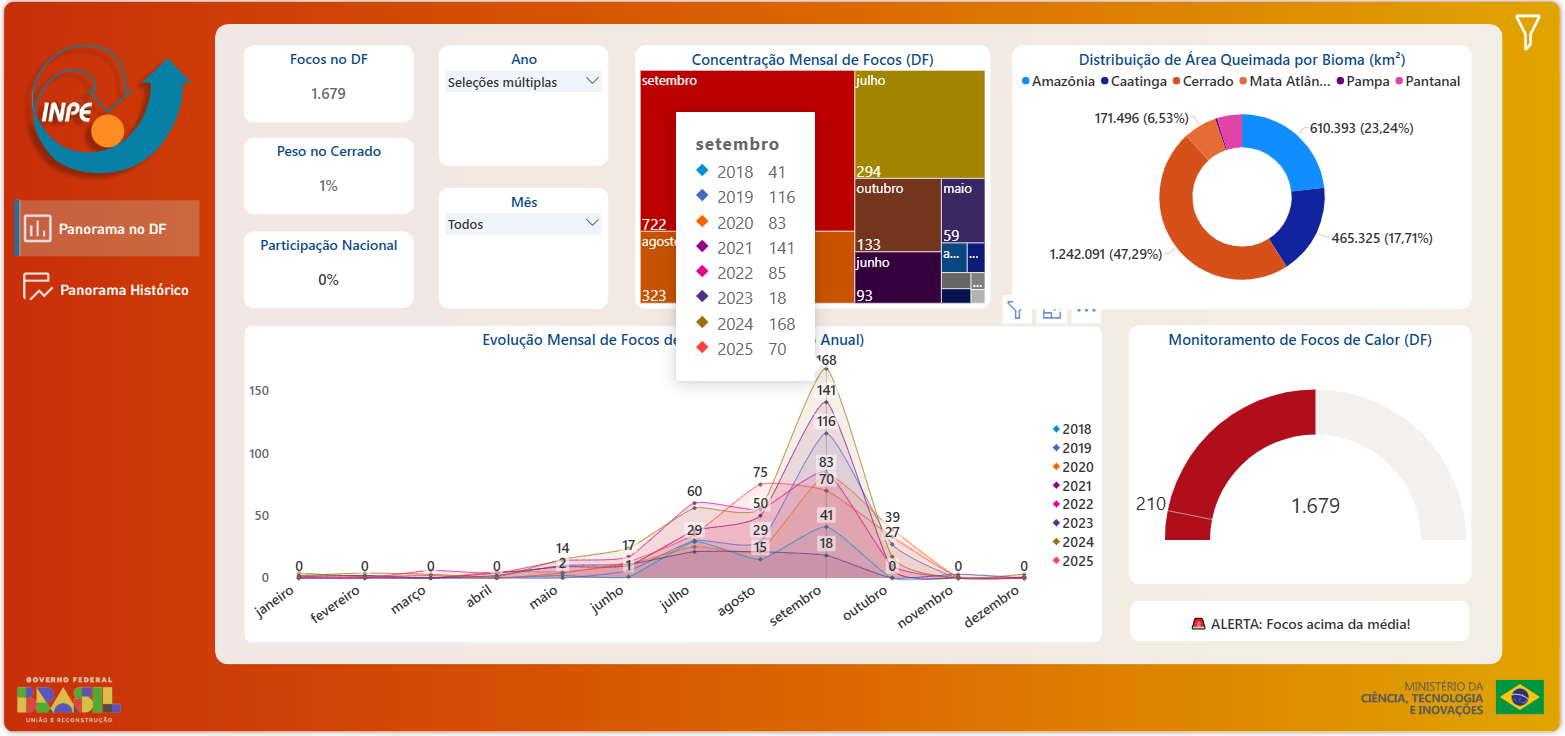

Layout of this report page (visuals, bound fields, positions):
{"tool":"powerbi","page":{"name":"Panorama no DF","canvas":[4500,2130],"ordinal":0},"visuals":[{"type":"image","title":"Orange Background","box":[24.4,20.3,4444.7,2086.1],"z":0},{"type":"image","title":"Ícone Histórico","box":[67.3,776.4,108.8,120.1],"z":0,"group":"g1"},{"type":"shape","title":"Fundo Branco","box":[629,84.3,3676.5,1828.5],"z":1000},{"type":"image","title":"Ícone DF","box":[65.4,599.1,115,139],"z":1000,"group":"g2"},{"type":"actionButton","title":"Panorama Histórico","box":[180.2,765.1,406,160.2],"z":1000,"group":"g1"},{"type":"actionButton","title":"Panorama no DF","box":[178.5,587.9,406,160.2],"z":1500,"group":"g2"},{"type":"image","title":"Logo MCTI","box":[3851,1911.3,618.1,191.1],"z":2000},{"type":"image","title":"Logo Inpe","box":[67.9,85.7,500,496.4],"z":3000},{"type":"image","title":"Logo GOV","box":[40,1912,344,208],"z":4000},{"type":"image","title":"Filtro","box":[4310,55,131.4,112.6],"z":5000},{"type":"group","id":"g1","title":"Botão Panorama Histórico","box":[67.3,765.1,519,160.2],"z":6000},{"type":"group","id":"g2","title":"Botão Panorama no DF","box":[65.4,587.9,519.1,161.3],"z":7000},{"type":"lineChart","title":"Evolução Mensal de Focos de Calor (Comparativo Anual)","fields":{"Y":["fHistoricoDF.Total Focos DF"],"Category":["dCalendario.Mês Nome"],"Series":["dCalendario.Ano"]},"box":[711.3,945.3,2452.2,907.9],"z":8000},{"type":"slicer","title":"Mês","fields":{"Values":["dCalendario.Mês Nome"]},"box":[1266.3,412.8,484.3,218.3],"z":9000},{"type":"card","title":"Focos no DF","fields":{"Values":["fHistoricoDF.Total Focos DF"]},"box":[711.2,145.5,484.9,220],"z":10000},{"type":"slicer","title":"Ano","fields":{"Values":["dCalendario.Ano"]},"box":[1266.3,146.9,484.3,218.3],"z":11000},{"type":"gauge","title":"Monitoramento de Focos de Calor (DF)","fields":{"Y":["fHistoricoDF.Total Focos DF"],"TargetValue":["fHistoricoDF.Media Mensal Historica DF"]},"box":[3238.4,945.3,978.1,739.4],"z":12000},{"type":"cardVisual","fields":{"Data":["fHistoricoDF.Mensagem Alerta"]},"box":[3238.4,1726.8,978.1,126.4],"z":13000},{"type":"card","title":"Peso no Cerrado","fields":{"Values":["fHistoricoDF.% Focos DF vs Região"]},"box":[711.2,412.2,484.9,218.2],"z":14000},{"type":"card","title":"Participação Nacional","fields":{"Values":["fHistoricoDF.% DF vs Brasil"]},"box":[711.2,678.9,484.9,218.2],"z":15000},{"type":"donutChart","title":"Distribuição de Área Queimada por Bioma (km²)","fields":{"Category":["dBioma.dBioma"],"Y":["Sum(fAreaQueimadaBioma.Area_Queimada)"]},"box":[2906.1,145.1,1310.3,753.4],"z":16000},{"type":"treemap","title":"Concentração Mensal de Focos (DF)","fields":{"Group":["dCalendario.Mês Nome"],"Values":["fHistoricoDF.Total Focos DF"]},"box":[1826.5,145.5,1014.3,751.6],"z":17000},{"type":"slicer","title":"Bioma","fields":{"Values":["dBioma.dBioma"]},"box":[1266.3,678.8,484.3,218.3],"z":18000},{"type":"shape","title":"Barrinha azul","box":[49,583.3,24.5,171.6],"z":19000}]}

Visuals, with their boxes in screenshot pixels (x1, y1, x2, y2), scaled from the page's 4500x2130 canvas onto the 1565x736 screenshot:
"Orange Background" image: <region>8, 7, 1554, 728</region>
"Ícone Histórico" image: <region>23, 268, 61, 310</region>
"Fundo Branco" shape: <region>219, 29, 1497, 661</region>
"Ícone DF" image: <region>23, 207, 63, 255</region>
"Panorama Histórico" actionButton: <region>63, 264, 204, 320</region>
"Panorama no DF" actionButton: <region>62, 203, 203, 258</region>
"Logo MCTI" image: <region>1339, 660, 1554, 726</region>
"Logo Inpe" image: <region>24, 30, 198, 201</region>
"Logo GOV" image: <region>14, 661, 134, 733</region>
"Filtro" image: <region>1499, 19, 1545, 58</region>
"Botão Panorama Histórico" group: <region>23, 264, 204, 320</region>
"Botão Panorama no DF" group: <region>23, 203, 203, 259</region>
"Evolução Mensal de Focos de Calor (Comparativo Anual)" lineChart: <region>247, 327, 1100, 640</region>
"Mês" slicer: <region>440, 143, 609, 218</region>
"Focos no DF" card: <region>247, 50, 416, 126</region>
"Ano" slicer: <region>440, 51, 609, 126</region>
"Monitoramento de Focos de Calor (DF)" gauge: <region>1126, 327, 1466, 582</region>
cardVisual - fHistoricoDF.Mensagem Alerta: <region>1126, 597, 1466, 640</region>
"Peso no Cerrado" card: <region>247, 142, 416, 218</region>
"Participação Nacional" card: <region>247, 235, 416, 310</region>
"Distribuição de Área Queimada por Bioma (km²)" donutChart: <region>1011, 50, 1466, 310</region>
"Concentração Mensal de Focos (DF)" treemap: <region>635, 50, 988, 310</region>
"Bioma" slicer: <region>440, 235, 609, 310</region>
"Barrinha azul" shape: <region>17, 202, 26, 261</region>
